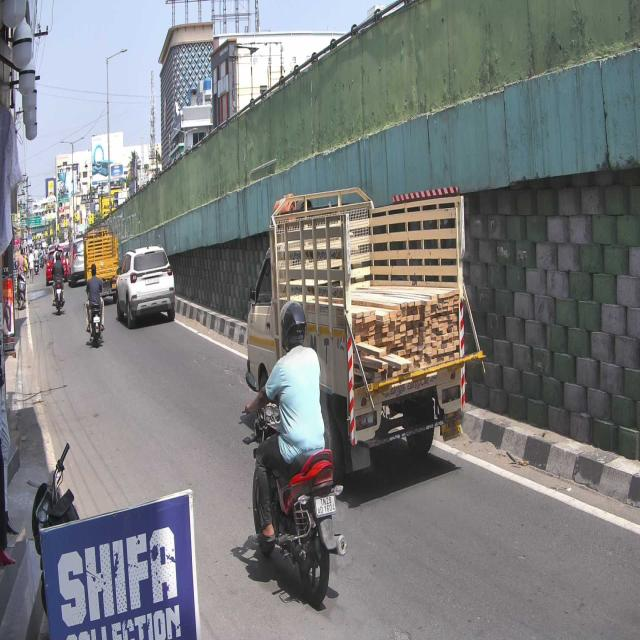single_rider: (242, 292, 348, 618)
